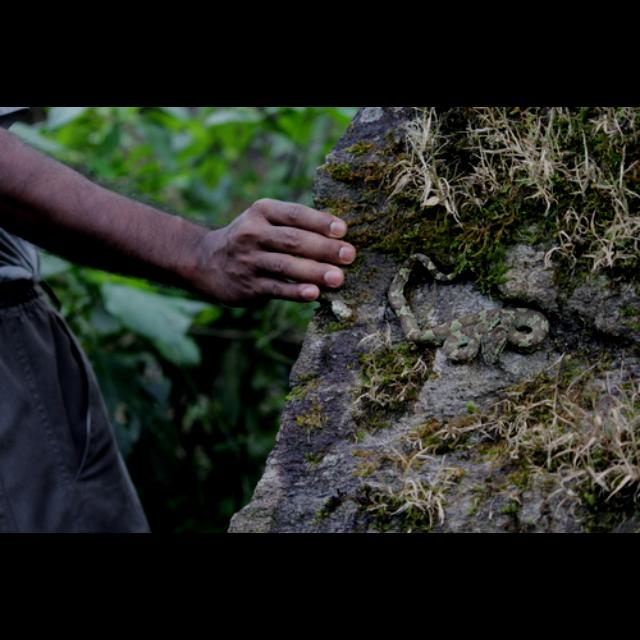snake: (394, 248, 556, 368)
